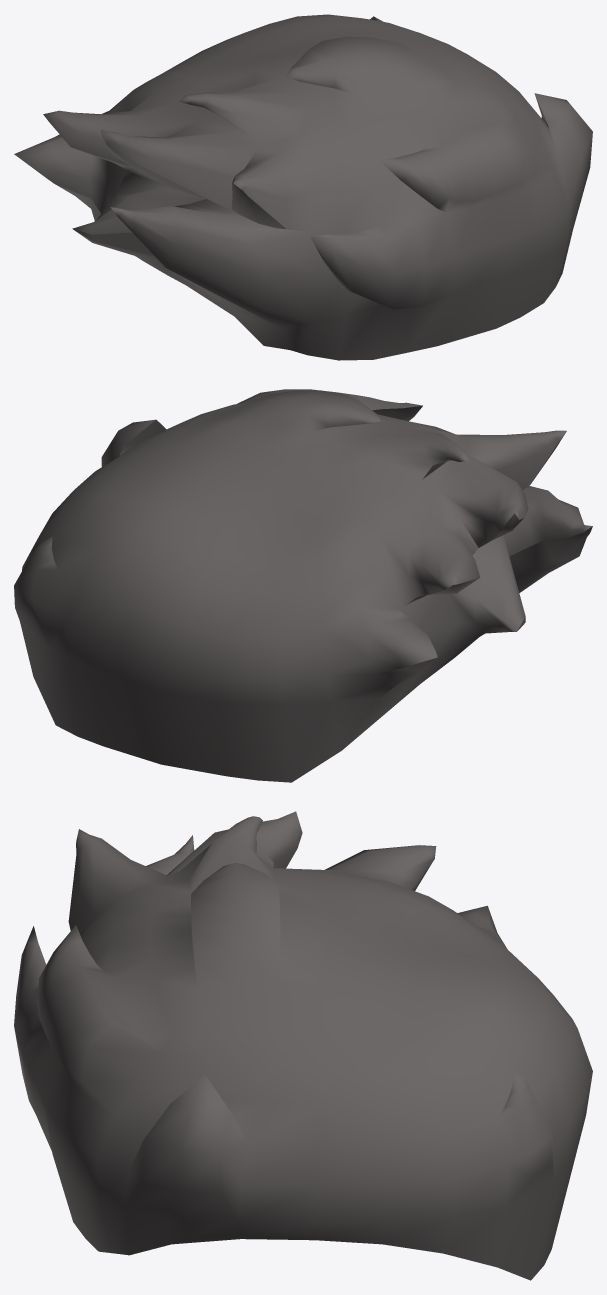
The model's file is Hair_22_04.fbx.
3 views of the same model, one above another, from view 1: azimuth 30°, elevation 25°; view 2: azimuth 150°, elevation 25°; view 3: azimuth 270°, elevation 25° (orthographic). The views are drawn at different scales.
Visible parts, largest first — view 1: Hair_22_04; view 2: Hair_22_04; view 3: Hair_22_04.
Boxes of the visible parts, x1=… form: Hair_22_04: x1=14, y1=14, x2=592, y2=360; Hair_22_04: x1=14, y1=389, x2=592, y2=782; Hair_22_04: x1=14, y1=811, x2=592, y2=1280.
Bounding box in the file's own units: 34.1 × 18.35 × 30.44.
